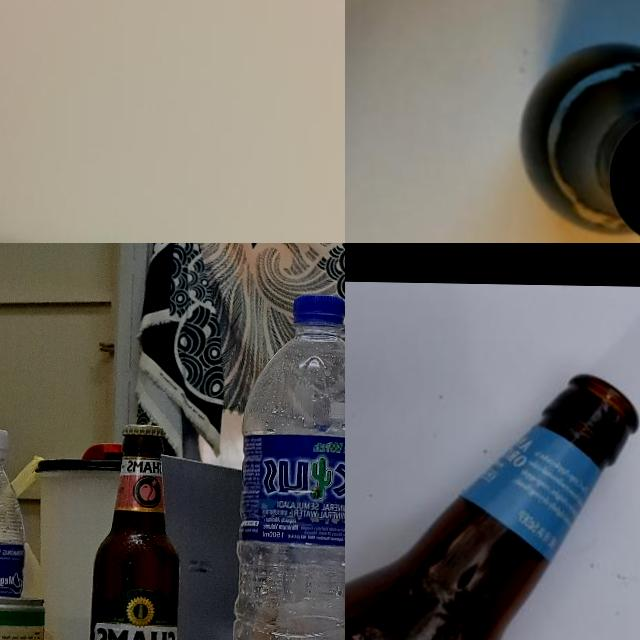garrafa de vidro: (345, 366, 638, 640), (86, 422, 184, 640), (604, 107, 640, 243)
garrafa plástica: (222, 324, 345, 640), (0, 452, 28, 624)
lata: (0, 596, 47, 640)
tampa plástica: (295, 293, 345, 324)
